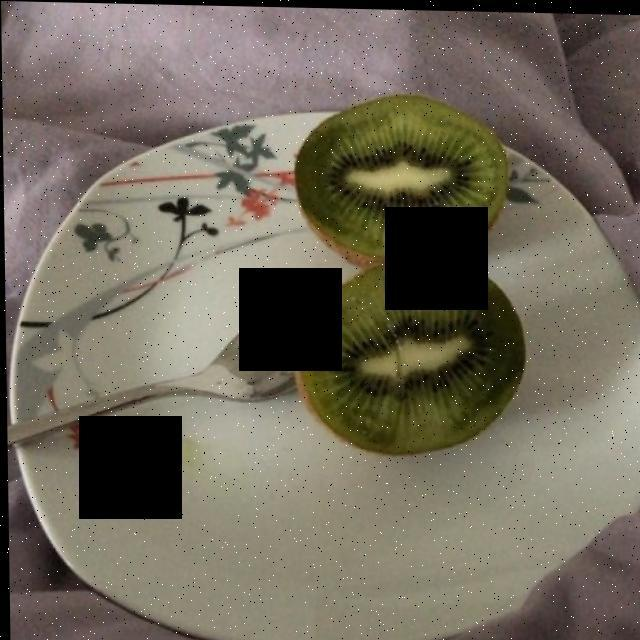kiwi: (298, 98, 515, 446)
